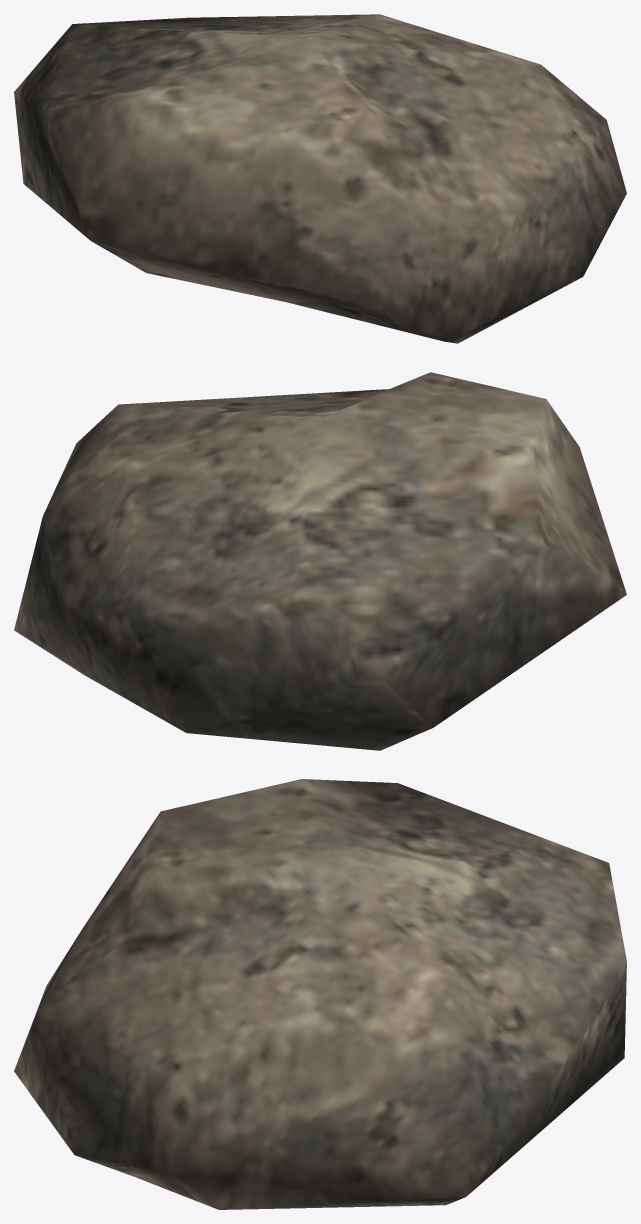
The model's file is SC_yonghengsenlin_shitou05.FBX.
3 views of the same model, one above another, from view 1: azimuth 30°, elevation 25°; view 2: azimuth 150°, elevation 25°; view 3: azimuth 270°, elevation 25° (orthographic). The views are drawn at different scales.
Parts seen in each view (by area): view 1: SC_yonghengsenlin_shitou05; view 2: SC_yonghengsenlin_shitou05; view 3: SC_yonghengsenlin_shitou05.
Boxes of the visible parts, box(x1,y1,x2,y2) form: SC_yonghengsenlin_shitou05: box(14, 14, 626, 343); SC_yonghengsenlin_shitou05: box(14, 372, 626, 750); SC_yonghengsenlin_shitou05: box(14, 779, 626, 1209).
Bounding box in the file's own units: 252 × 110 × 242.
